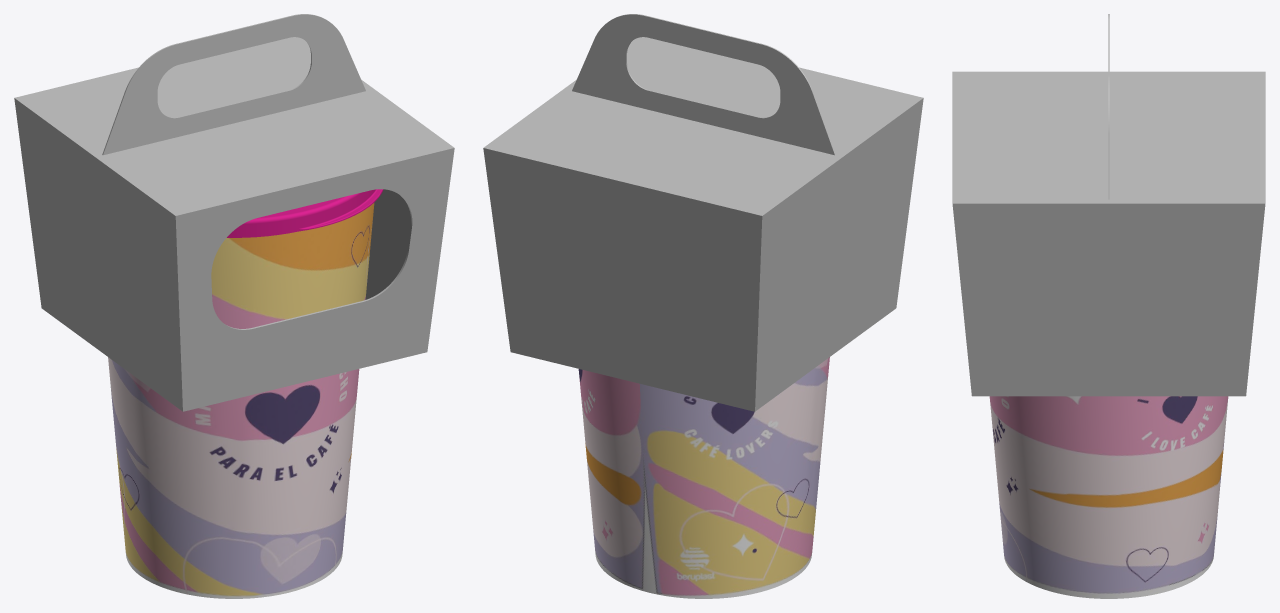
File: Sombrero_012.glb
The picture shows the model from 3 angles, left to right: view 1: azimuth 30°, elevation 25°; view 2: azimuth 150°, elevation 25°; view 3: azimuth 270°, elevation 25°; orthographic projection. The views are drawn at different scales.
Parts seen in each view (by area): view 1: object_2_n3d, object_1%2E002_n3d, object_1_n3d, tapa pico; view 2: object_2_n3d, object_1%2E002_n3d, object_1_n3d; view 3: object_2_n3d, object_1%2E002_n3d.
Part boxes in pixels (x1,y1,x2,y2): object_2_n3d: (14, 37, 454, 411); object_1%2E002_n3d: (108, 203, 374, 598); object_1_n3d: (102, 14, 365, 155); tapa pico: (227, 189, 383, 237); object_2_n3d: (483, 37, 923, 411); object_1%2E002_n3d: (578, 357, 829, 598); object_1_n3d: (572, 14, 835, 155); object_2_n3d: (952, 71, 1265, 396); object_1%2E002_n3d: (989, 396, 1228, 598).
Size of the model in its own units: 1.27 by 2.27 by 1.27.
4 materials, 1 textured.
